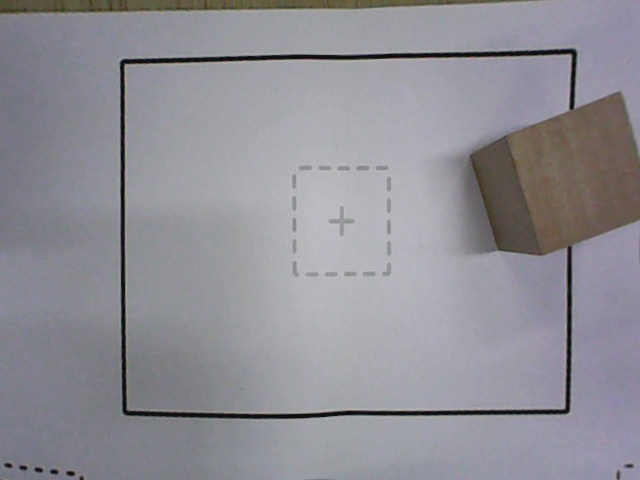upside of big cube: (505, 92, 639, 257)
